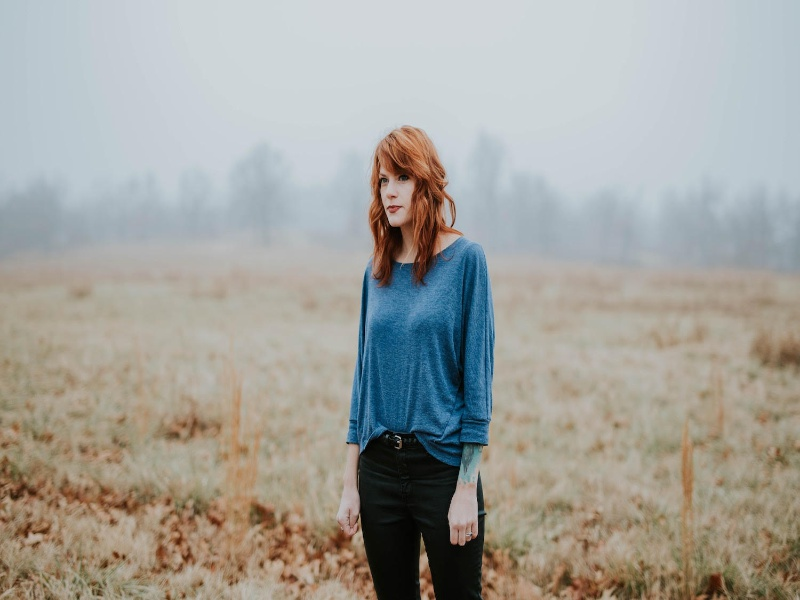TsisyArotava: (362, 132, 437, 241)
